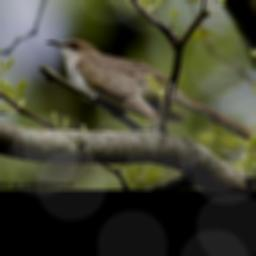Cuckoo: (49, 37, 256, 140)
